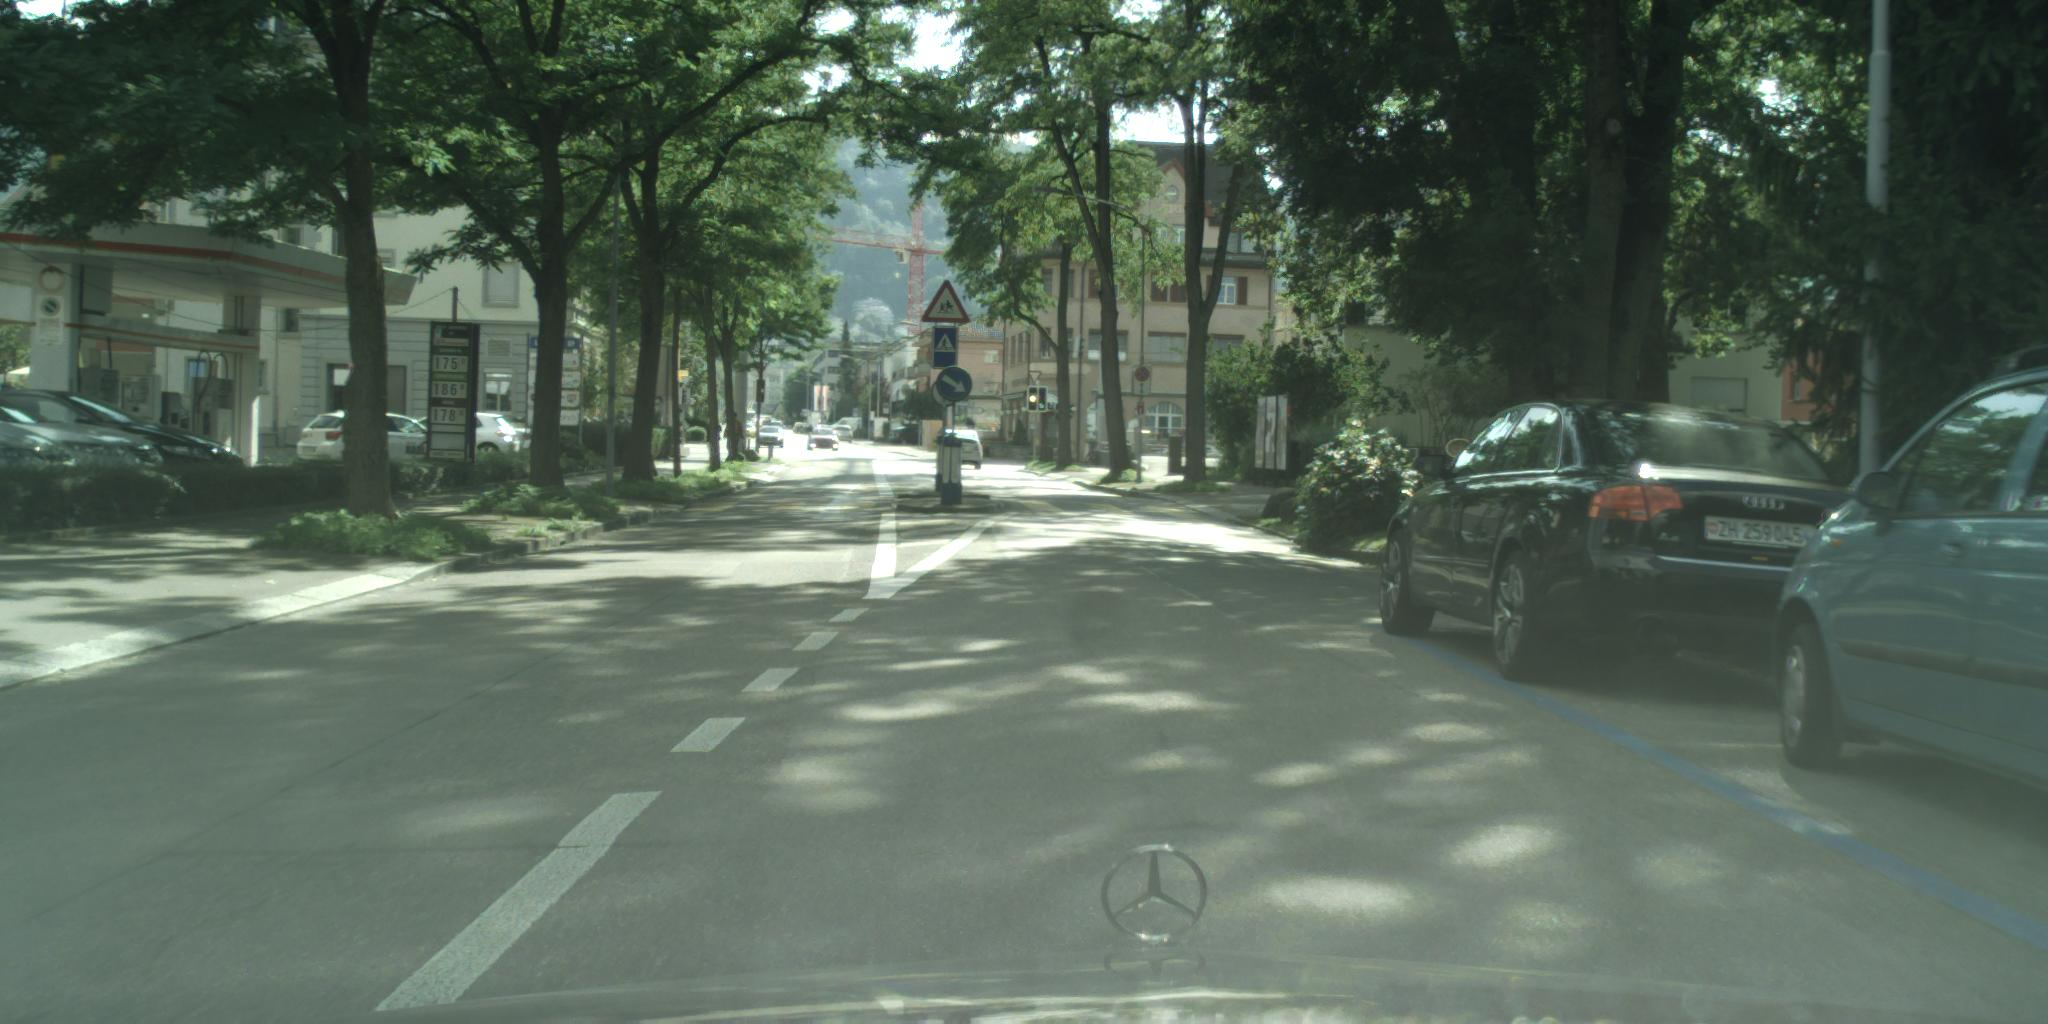car: (1378, 400, 1853, 684), (1768, 368, 2048, 798), (1, 389, 252, 472), (1, 394, 168, 472), (298, 413, 434, 464), (417, 411, 520, 465), (946, 432, 985, 472), (754, 424, 785, 451), (808, 428, 841, 452), (827, 417, 863, 434), (833, 428, 854, 445), (795, 423, 816, 438)
